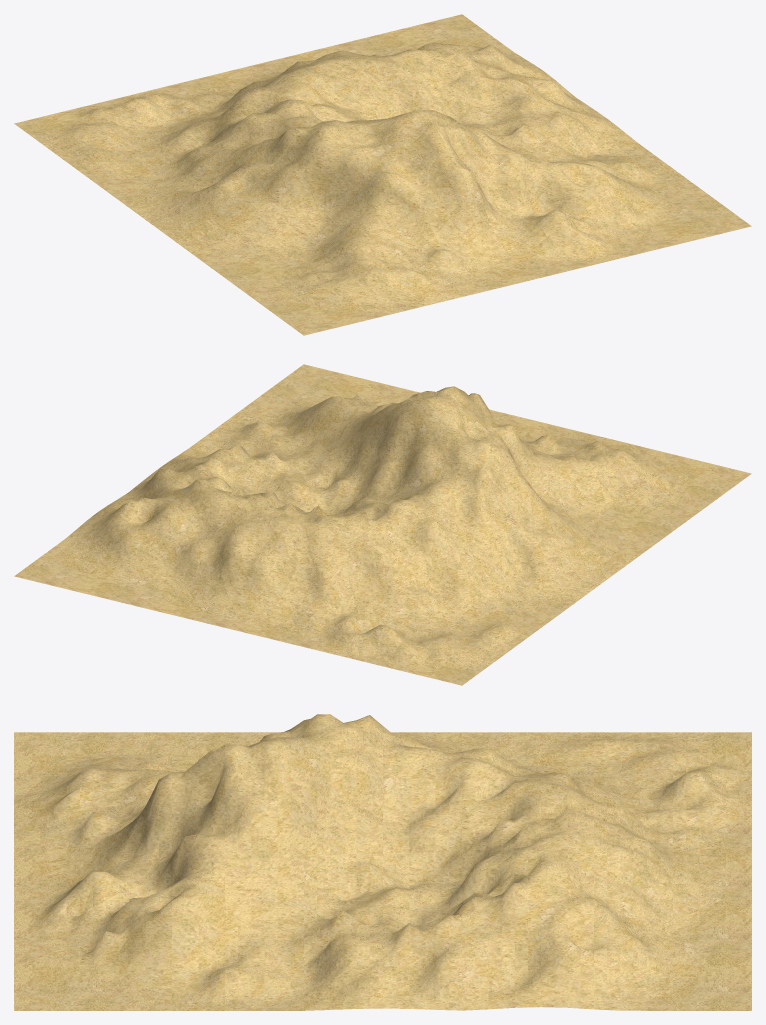
File: mountain.dae
3 renders of one model, top to bottom at view 1: azimuth 30°, elevation 25°; view 2: azimuth 150°, elevation 25°; view 3: azimuth 270°, elevation 25°, orthographic. The views are drawn at different scales.
Visible parts, largest first — view 1: SketchUp; view 2: SketchUp; view 3: SketchUp.
Boxes of the visible parts, x1,y1,x2,y2 form: SketchUp: (14, 14, 751, 335); SketchUp: (14, 364, 751, 685); SketchUp: (14, 714, 751, 1010).
Bounding box in the file's own units: 12644 × 14161 × 2668.
1 material, 1 textured.
